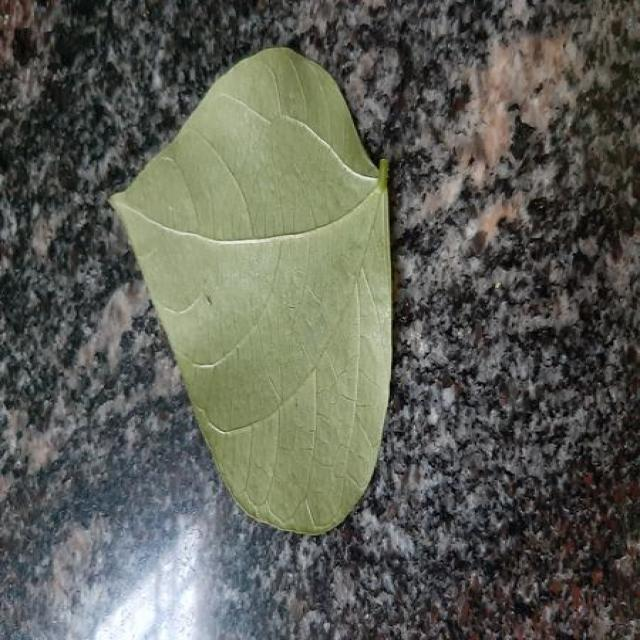beans: (110, 48, 392, 533)
